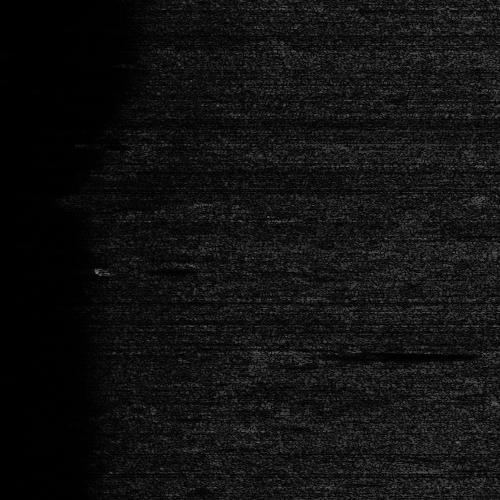object: (238, 346, 321, 359), (470, 397, 500, 400)
shadow: (279, 346, 458, 359)
